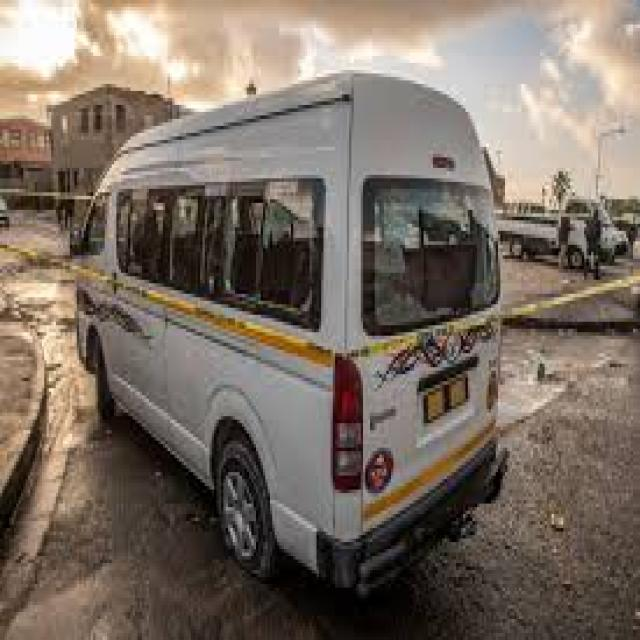MiniBus taxi: (68, 84, 505, 601)
